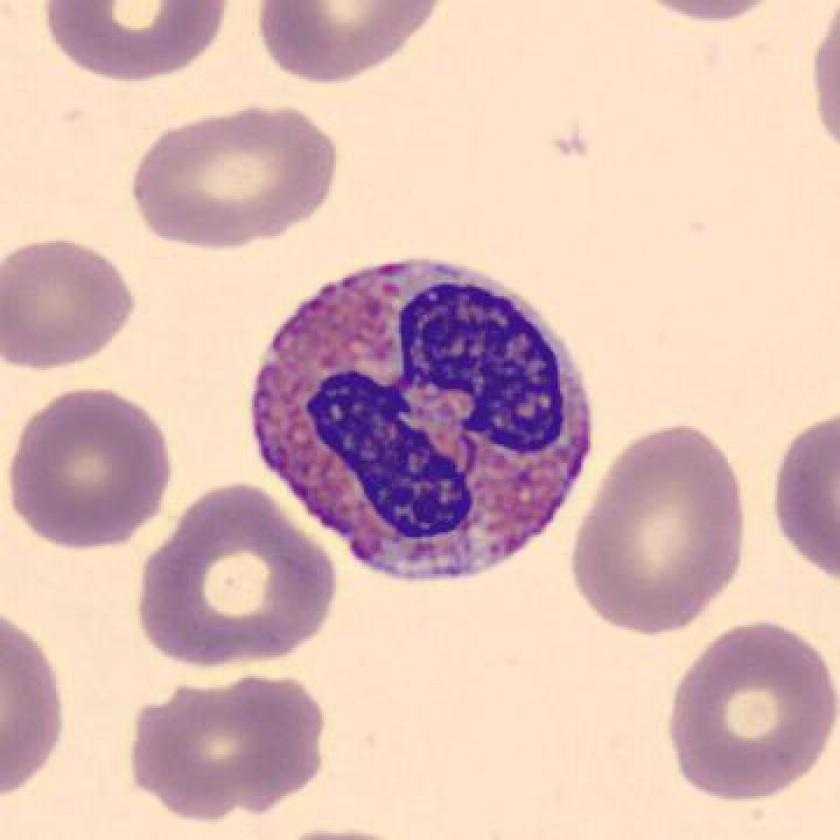eosinophil: (239, 237, 610, 598)
